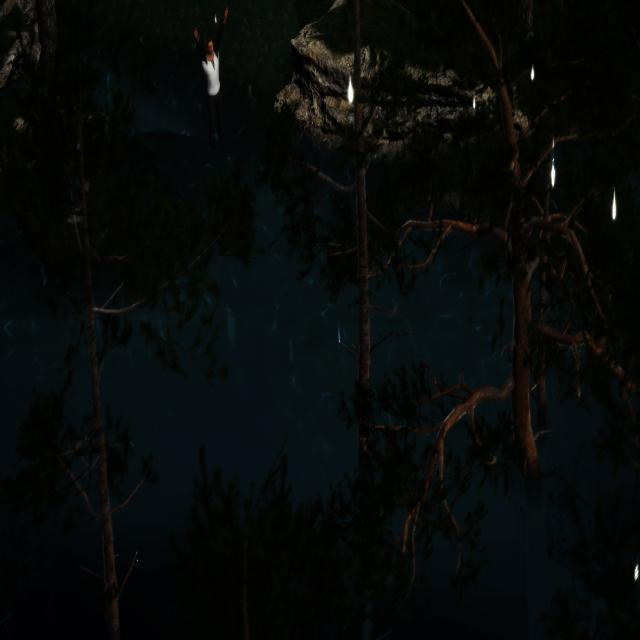Human: (189, 1, 237, 183)
